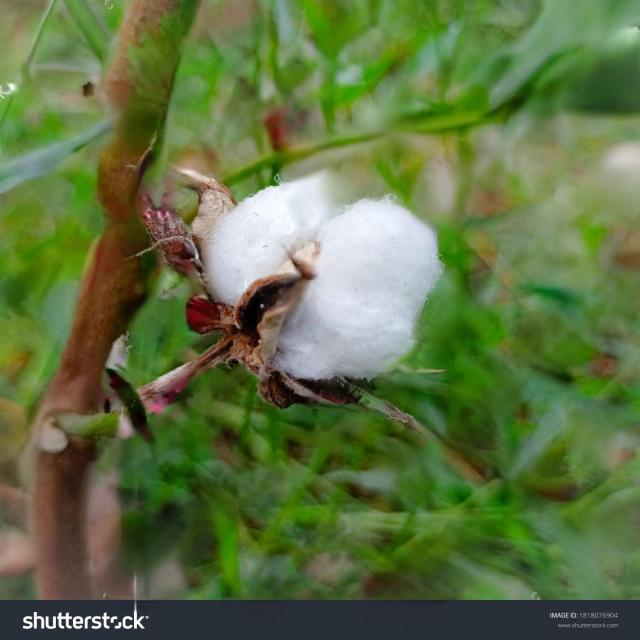Late_blight: (118, 160, 456, 395)
